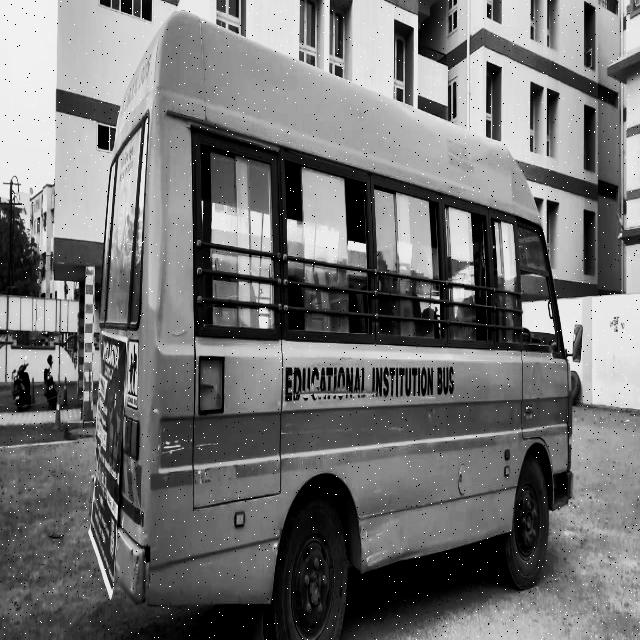Bus: (84, 9, 586, 622)
